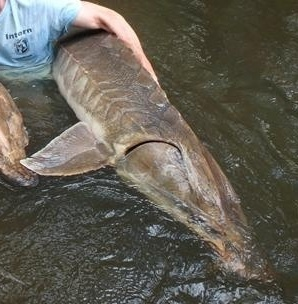Acipenseridae: (20, 20, 278, 284)
